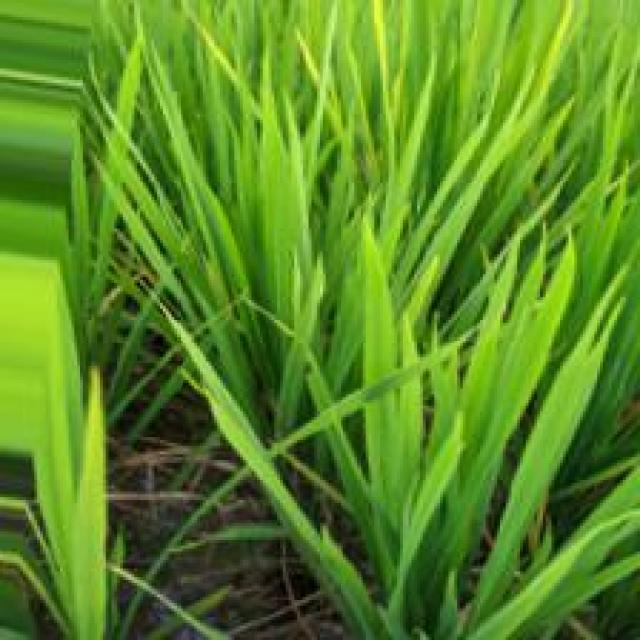HealthyLeaf: (502, 371, 593, 517), (481, 329, 552, 440), (265, 180, 299, 279)
